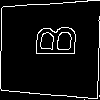B: (24, 24, 76, 58)
